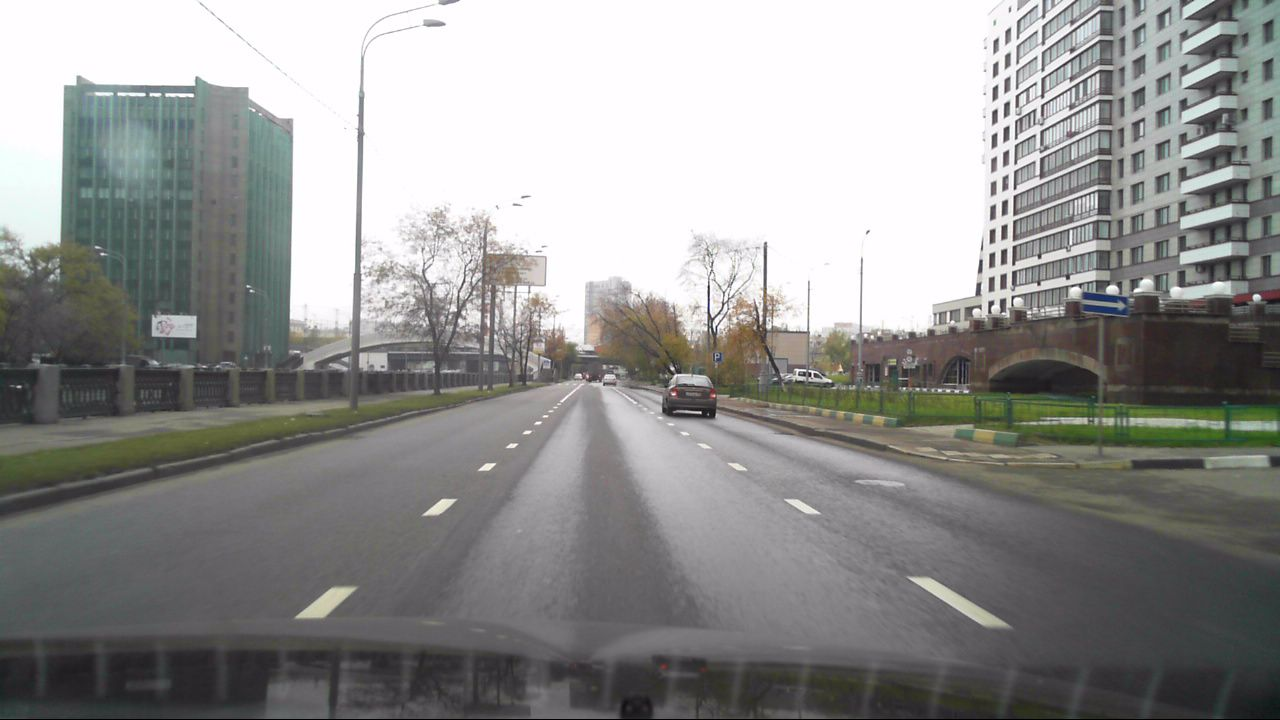One-Way Traffic: (1082, 292, 1129, 318)
